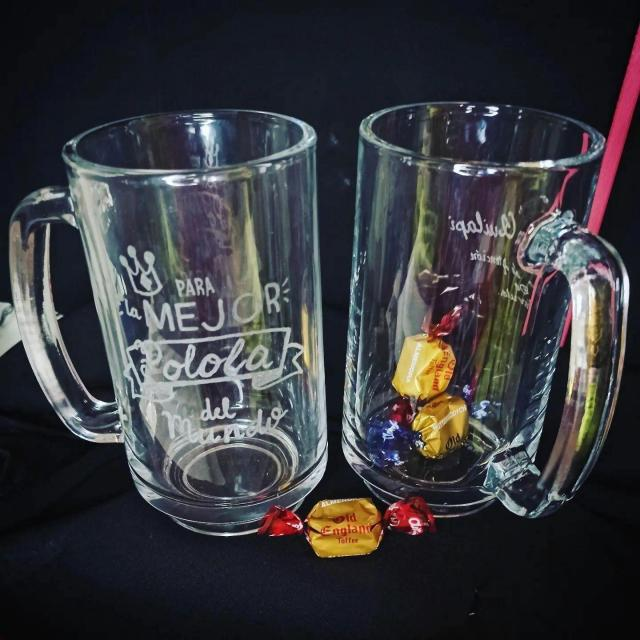glass-mug: (15, 104, 331, 547), (328, 90, 636, 538)
